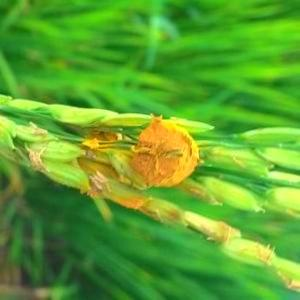Leaf_Scald: (136, 114, 194, 191)
